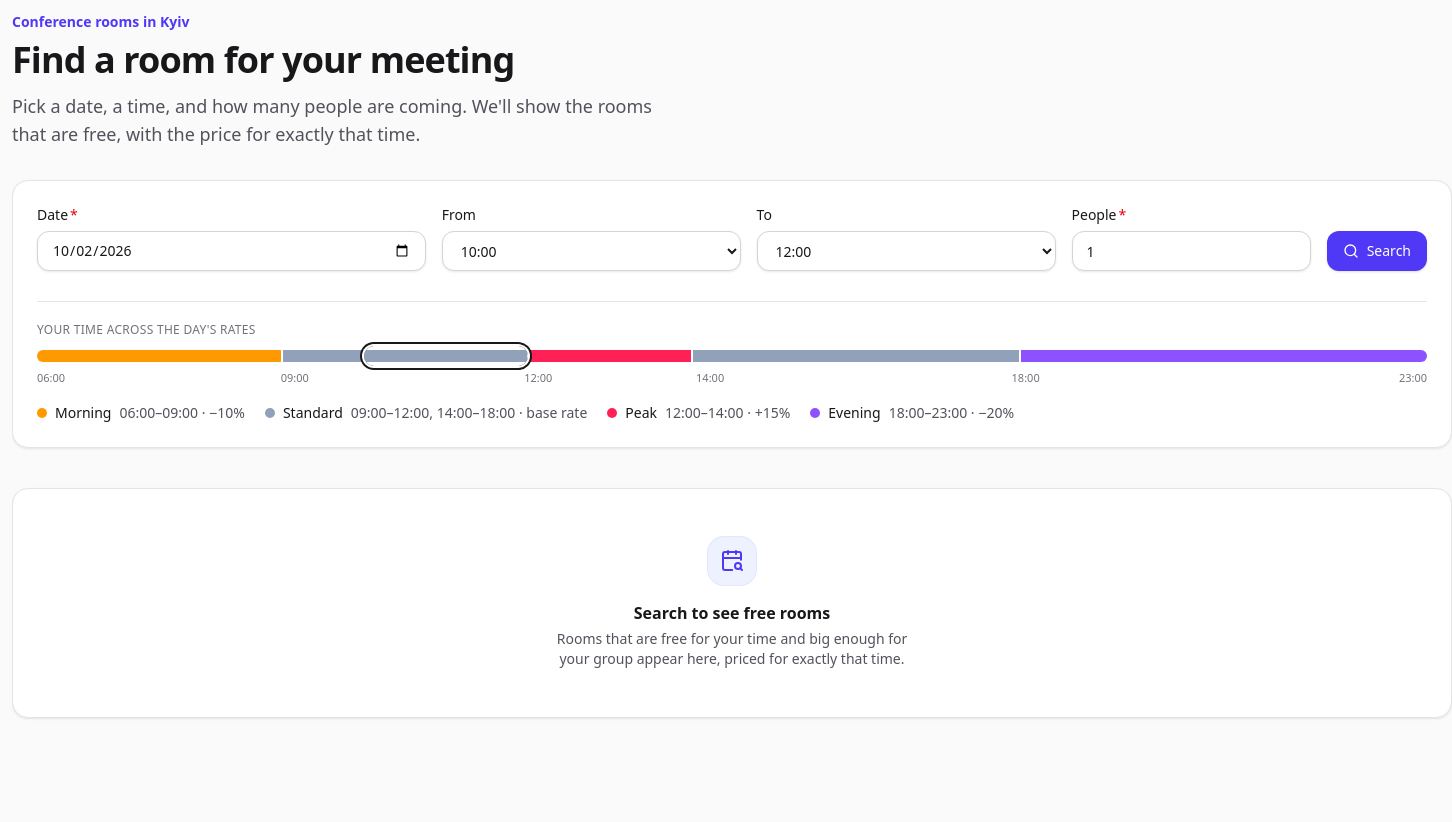
it: FindRoomComponent › refuses a slot the server would refuse ({"to":"10:00"})
Select "10:00" in the dropdown labelled "To" at (906, 251), box [757, 231, 1056, 271]
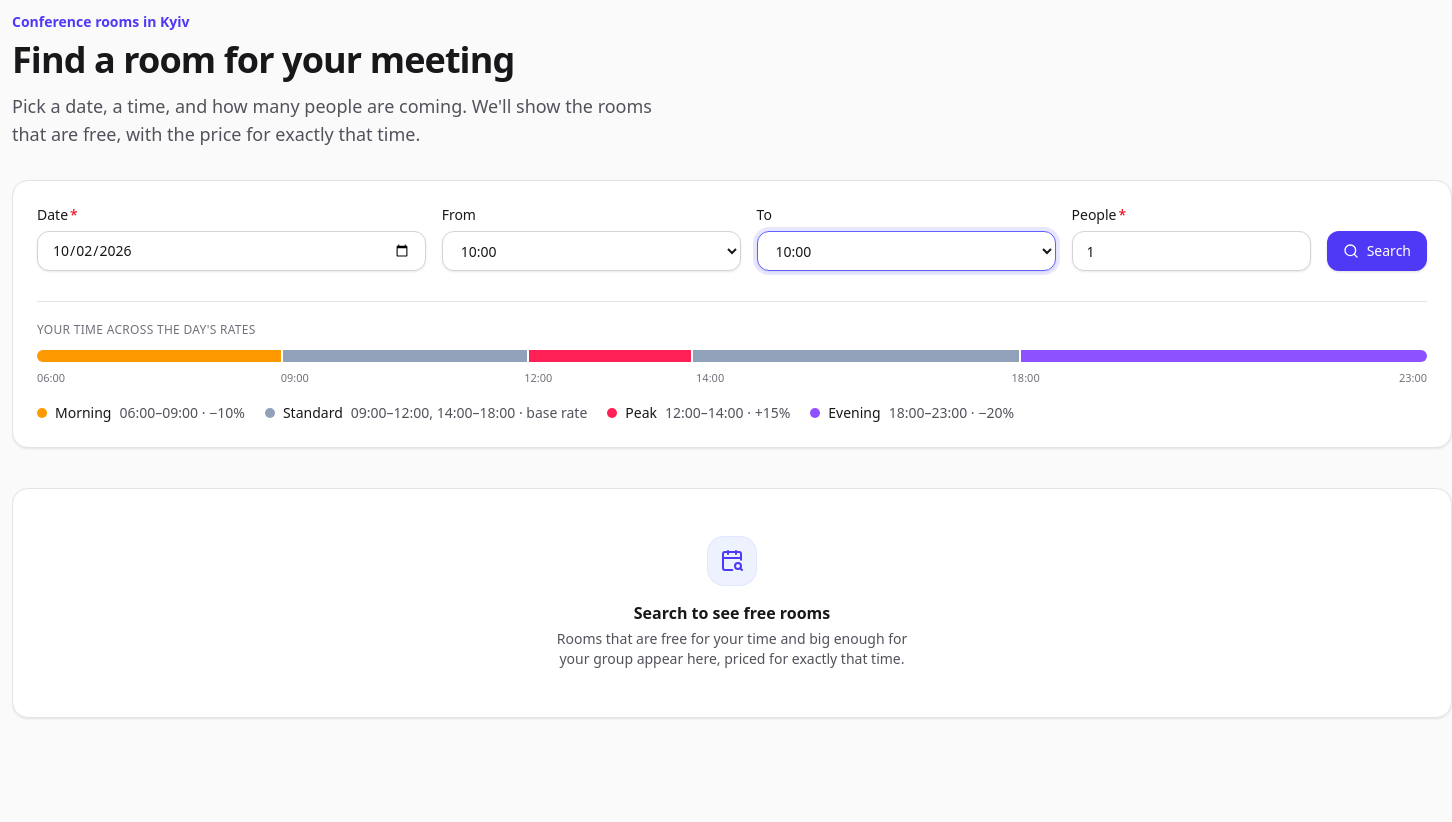
Click the button "Search" at (1377, 251), box [1327, 231, 1427, 271]
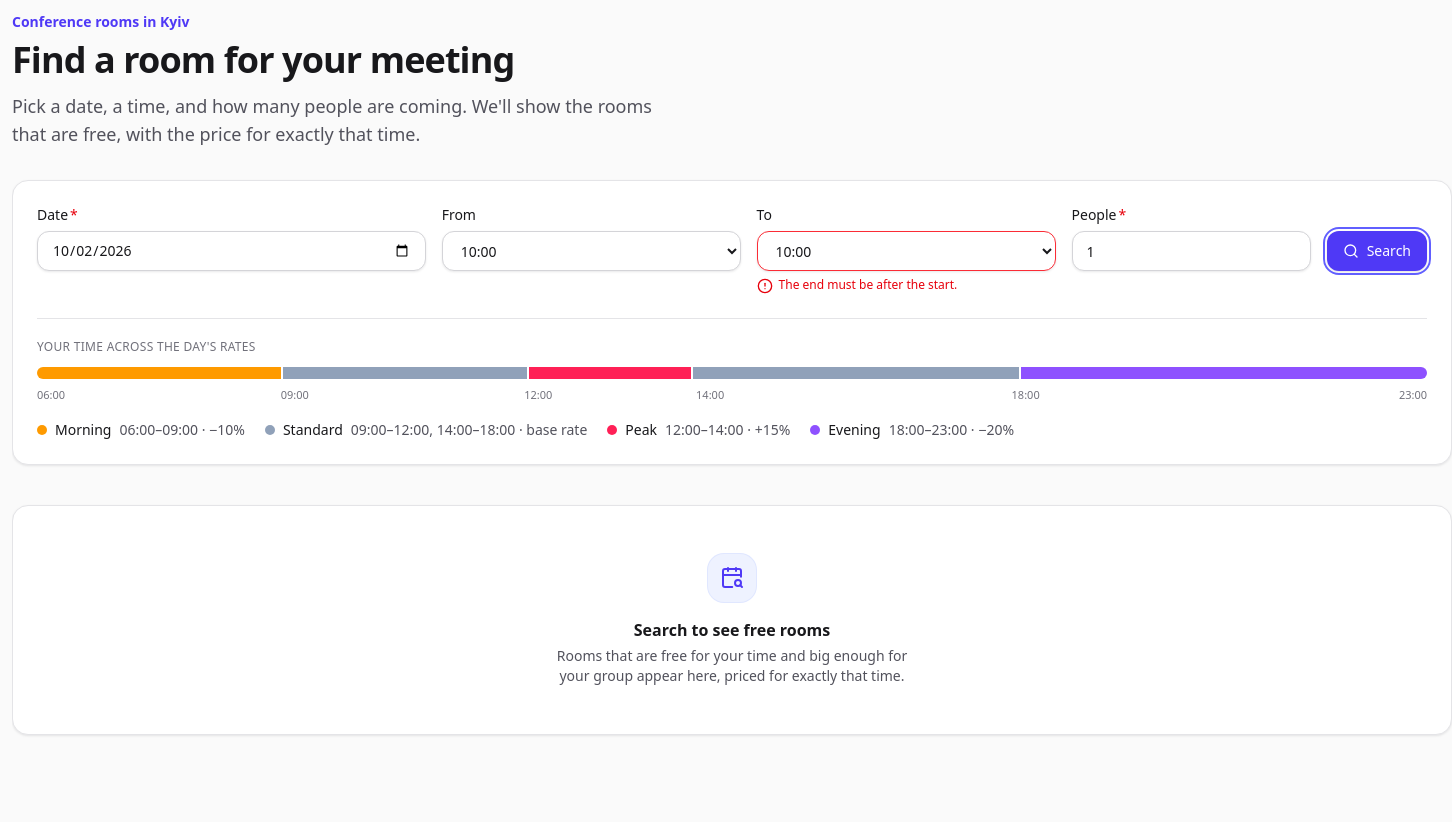
Result: the text "The end must be after the start." is shown at [757, 276, 957, 294]
